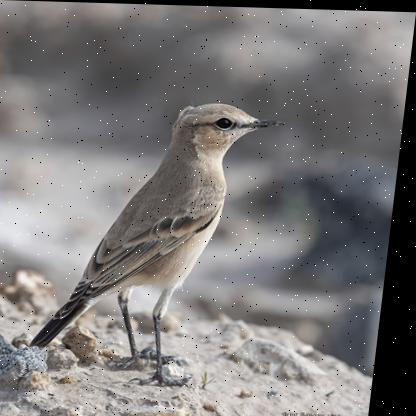Burung: (37, 86, 284, 377)
